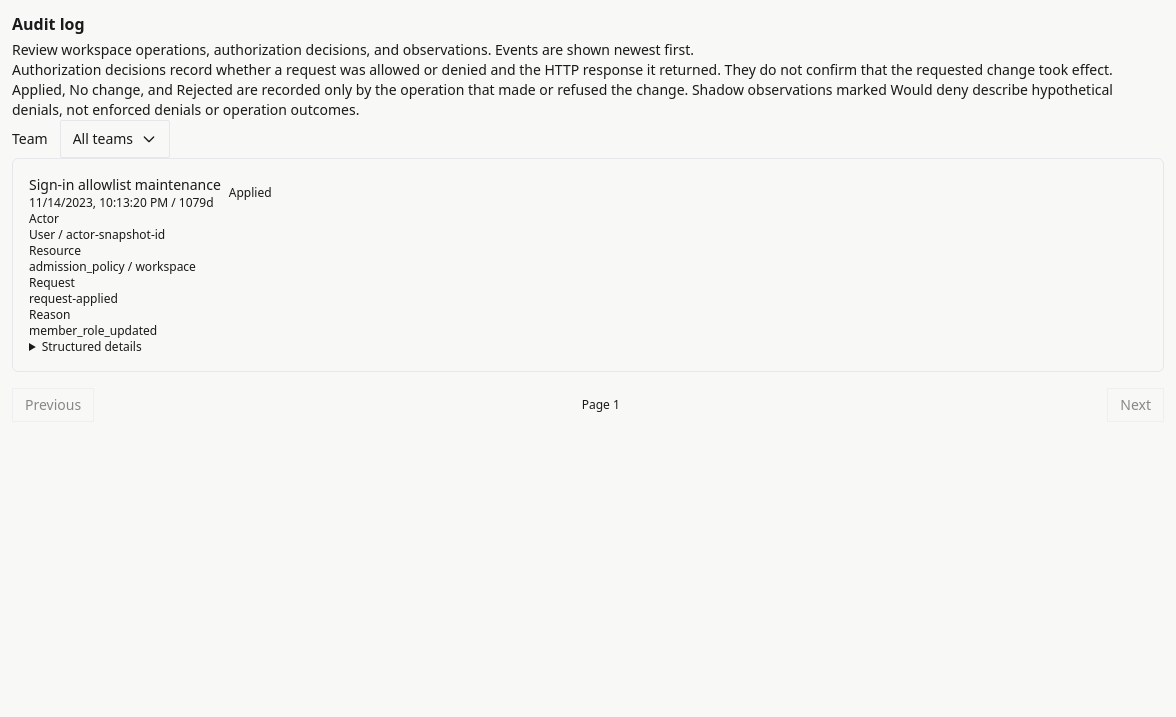
it: AuditLogSettings › recognizes workspace.admission_policy_maintenance and exposes readable policy metadata
expect the heading "Sign-in allowlist maintenance" is shown: met, box [29, 175, 221, 195]
expect the text "admission_policy / workspace" is shown: met, box [29, 258, 196, 275]
Click the heading "Structured details".
click(85, 347)  # box [29, 339, 142, 355]
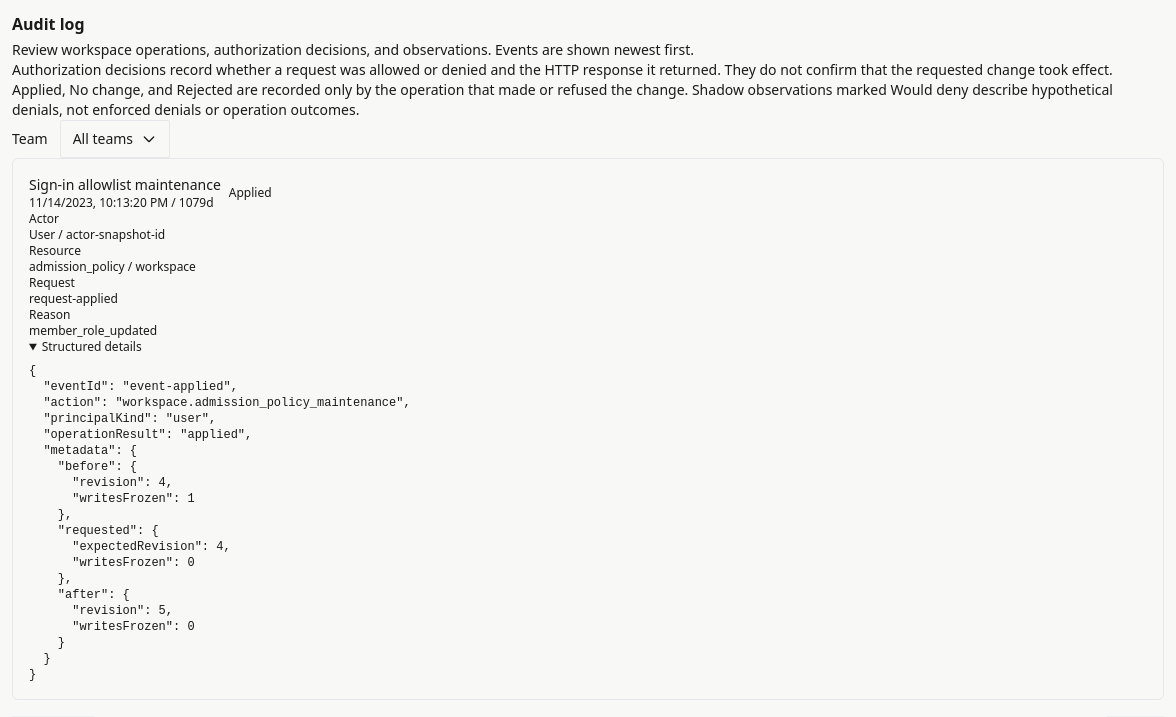
expect the text "\"metadata\":" shows "\"expectedRevision\": 4": met, box [29, 364, 411, 682]
expect the text "\"metadata\":" shows "\"revision\": 5": met, box [29, 364, 411, 682]
expect the text "\"metadata\":" shows "\"writesFrozen\": 1": met, box [29, 364, 411, 682]
